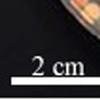orange: (81, 1, 100, 25), (68, 0, 90, 8)
